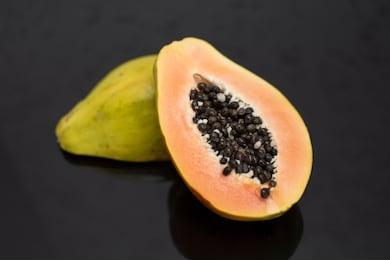papaya: (156, 35, 317, 221), (56, 55, 182, 162)
